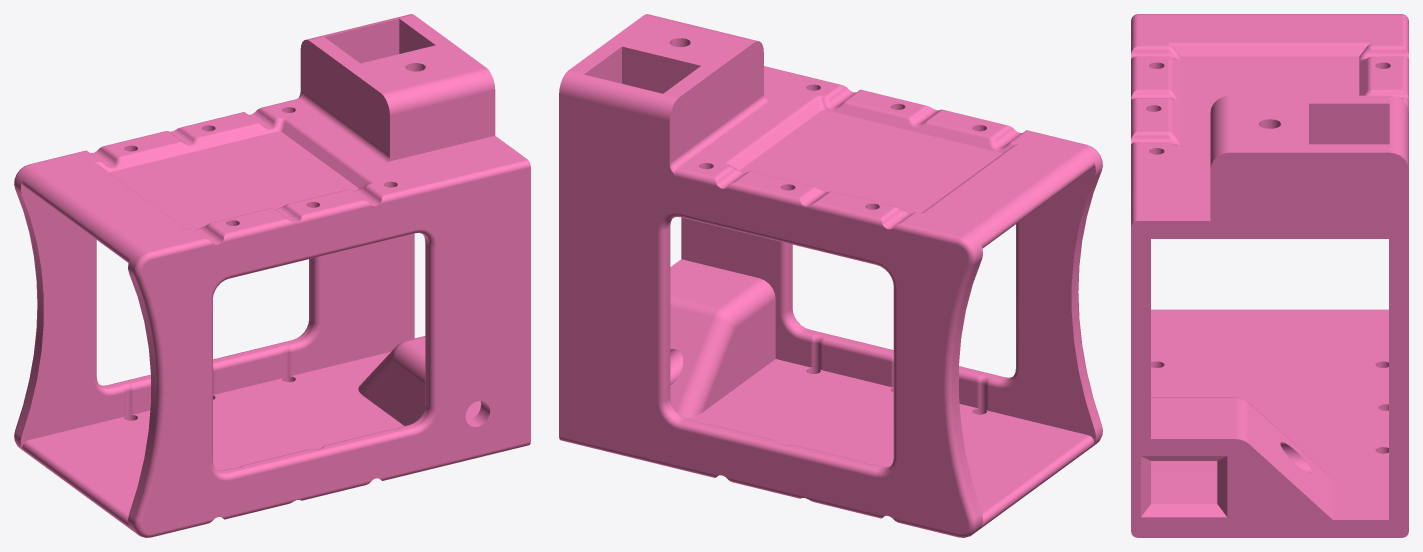
The model's file is XYZ Stage V5_Z Stage Part V5.obj.
3 renders of one model, left to right at view 1: azimuth 30°, elevation 25°; view 2: azimuth 150°, elevation 25°; view 3: azimuth 270°, elevation 25°, orthographic. The views are drawn at different scales.
Visible parts, largest first — view 1: Solid1:2; view 2: Solid1:2; view 3: Solid1:2.
Part boxes in pixels (x1,y1,x2,y2): Solid1:2: (14, 14, 530, 537); Solid1:2: (559, 14, 1102, 537); Solid1:2: (1131, 14, 1408, 537).
Size of the model in its own units: 63.65 by 53.55 by 35.
